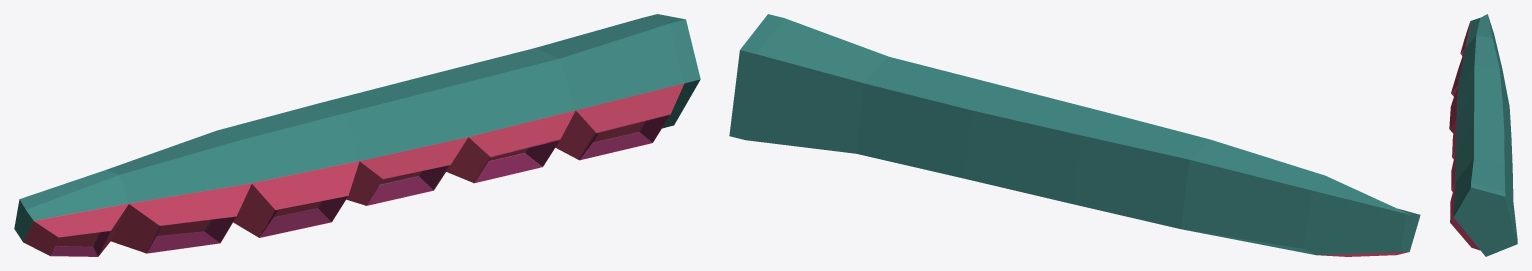
Rendered from New_TentacleArm.fbx.
3 renders of one model, left to right at view 1: azimuth 30°, elevation 25°; view 2: azimuth 150°, elevation 25°; view 3: azimuth 270°, elevation 25°, orthographic. The views are drawn at different scales.
Visible parts, largest first — view 1: Kädet; view 2: Kädet; view 3: Kädet.
Boxes of the visible parts, box(x1,y1,x2,y2) form: Kädet: box(14, 14, 700, 256); Kädet: box(729, 14, 1420, 256); Kädet: box(1449, 14, 1517, 256).
Size of the model in its own units: 3.95 by 0.6713 by 0.5949.
